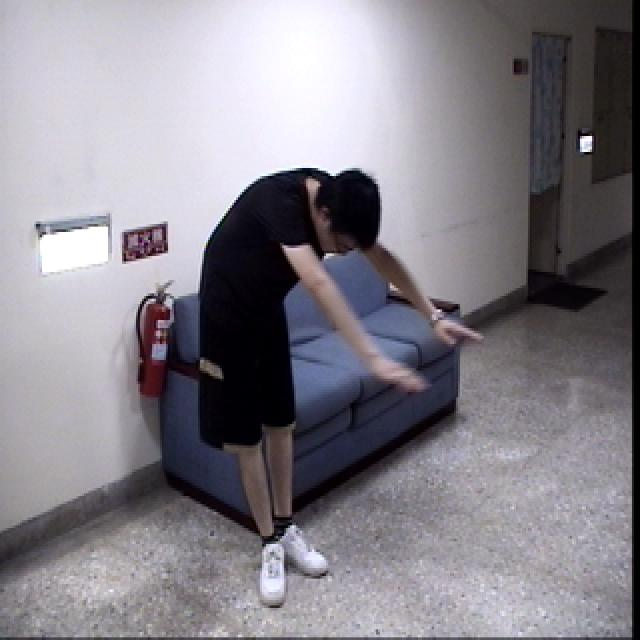bend: (196, 159, 493, 610)
